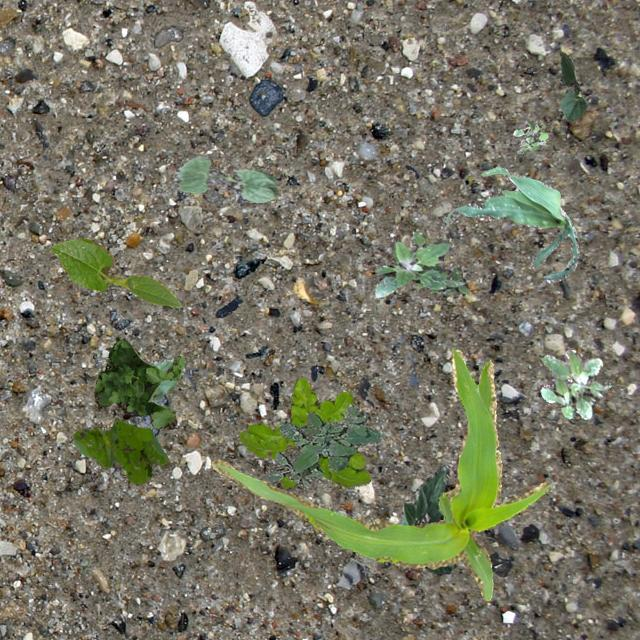crop: (210, 347, 548, 599), (441, 165, 578, 282), (51, 238, 180, 306), (400, 464, 454, 574), (172, 154, 278, 202), (558, 50, 586, 120), (150, 358, 184, 400)
weed: (236, 378, 370, 490), (263, 402, 382, 486), (92, 336, 184, 428), (72, 418, 170, 484), (374, 230, 468, 298), (540, 348, 610, 418), (512, 119, 548, 152)
